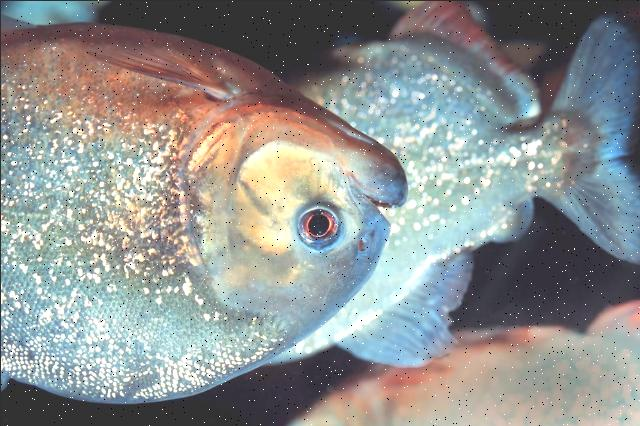Mulut: (326, 132, 452, 267)
Sirip Anal: (378, 0, 547, 143)
Sirip Dada: (63, 5, 259, 122)
Sirip Ekor: (544, 7, 640, 273)
Sirip Punggung: (326, 191, 544, 370)
